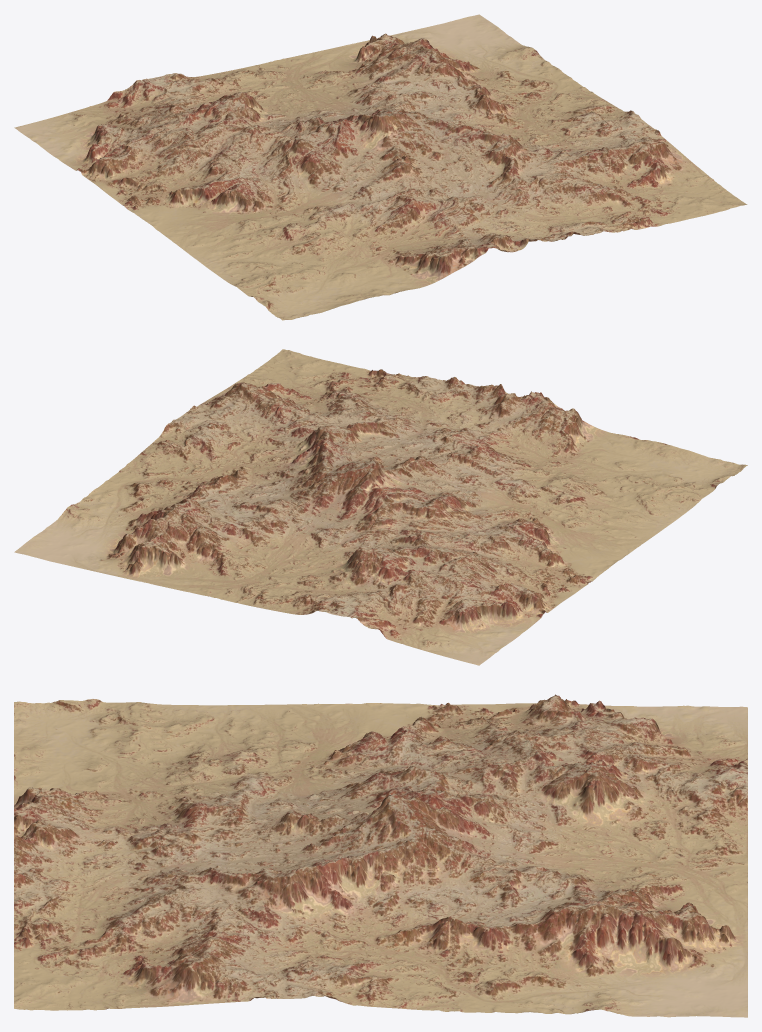
File: rocky-desert.glb
3 views of the same model, one above another, from view 1: azimuth 30°, elevation 25°; view 2: azimuth 150°, elevation 25°; view 3: azimuth 270°, elevation 25° (orthographic). The views are drawn at different scales.
Parts seen in each view (by area): view 1: terrain; view 2: terrain; view 3: terrain.
Part boxes in pixels (x1=…): terrain: x1=14, y1=14, x2=747, y2=320; terrain: x1=14, y1=349, x2=747, y2=665; terrain: x1=14, y1=694, x2=747, y2=1017.
Size of the model in its own units: 600 by 62.59 by 600.
1 material, 1 textured.
